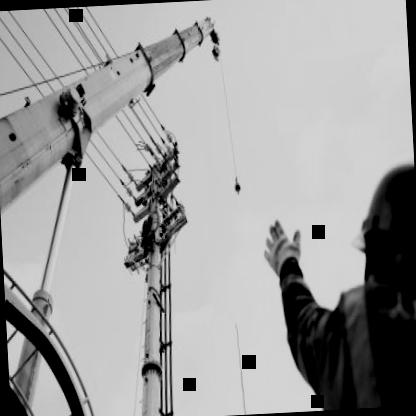helmet: (350, 146, 416, 319)
